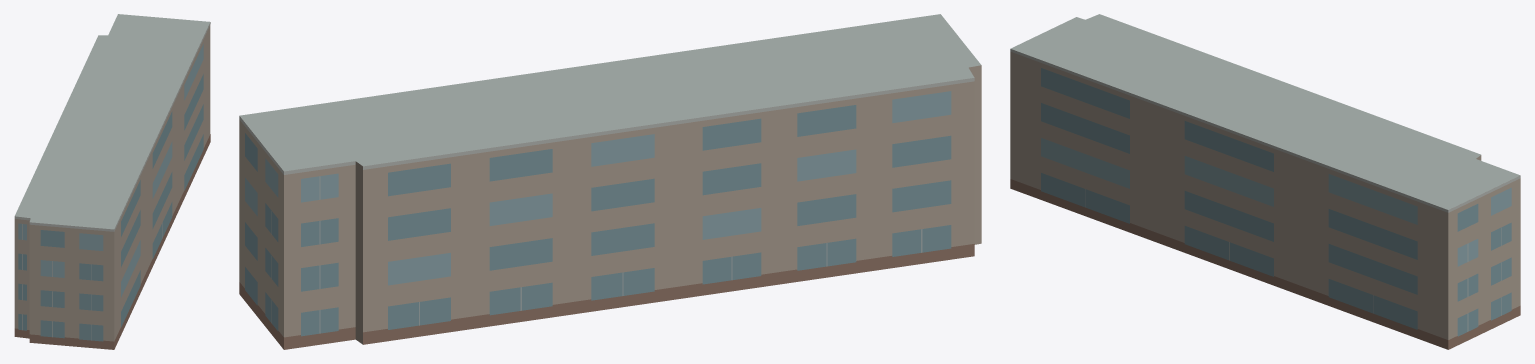
The model's file is survey-upis-32780194.glb.
3 renders of one model, left to right at view 1: azimuth 30°, elevation 25°; view 2: azimuth 150°, elevation 25°; view 3: azimuth 270°, elevation 25°, orthographic. The views are drawn at different scales.
Parts seen in each view (by area): view 1: survey-upis-32780194.tmp; view 2: survey-upis-32780194.tmp; view 3: survey-upis-32780194.tmp.
Part boxes in pixels (x1,y1,x2,y2): survey-upis-32780194.tmp: (14,14,210,349); survey-upis-32780194.tmp: (239,14,981,349); survey-upis-32780194.tmp: (1010,14,1520,349).
Bounding box in the file's own units: 36.69 × 12.2 × 40.36.
